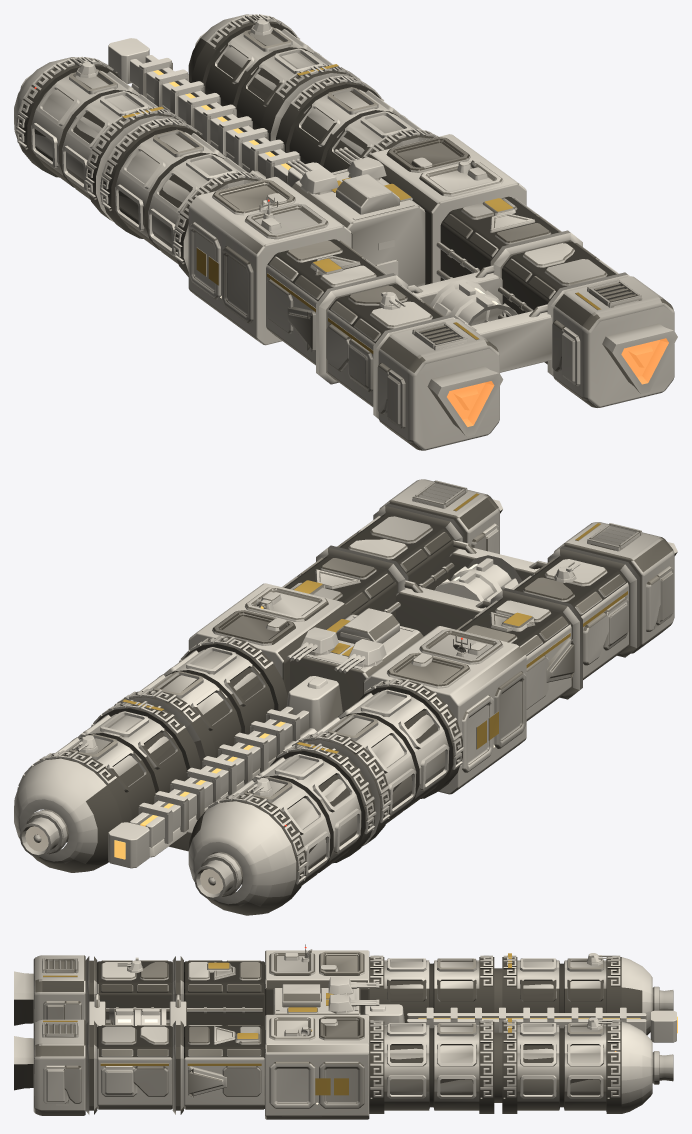
Rendered from plektor_cruiser.glb.
3 renders of one model, top to bottom at view 1: azimuth 30°, elevation 25°; view 2: azimuth 150°, elevation 25°; view 3: azimuth 270°, elevation 25°, orthographic. The views are drawn at different scales.
Parts seen in each view (by area): view 1: hull, turret_0, engines, reactor, aux_0, aux_1; view 2: hull, turret_0, engines, reactor, aux_0, aux_1; view 3: hull, turret_0, engines, reactor, aux_1, aux_0.
Part boxes in pixels (bbox=[...]): hull: bbox=[14, 14, 674, 450]; turret_0: bbox=[108, 38, 329, 187]; engines: bbox=[20, 32, 677, 436]; reactor: bbox=[430, 279, 517, 325]; aux_0: bbox=[287, 158, 338, 194]; aux_1: bbox=[334, 147, 386, 180]; hull: bbox=[14, 479, 674, 915]; turret_0: bbox=[108, 676, 342, 868]; engines: bbox=[19, 493, 677, 899]; reactor: bbox=[434, 555, 522, 601]; aux_0: bbox=[334, 639, 386, 673]; aux_1: bbox=[286, 627, 338, 661]; hull: bbox=[33, 944, 652, 1119]; turret_0: bbox=[363, 1004, 677, 1042]; engines: bbox=[14, 971, 673, 1090]; reactor: bbox=[109, 1008, 166, 1025]; aux_1: bbox=[328, 994, 379, 1013]; aux_0: bbox=[328, 976, 379, 995].
Size of the model in its own units: 42.84 by 18.09 by 115.
Materials: 12 (4 with a texture image).
